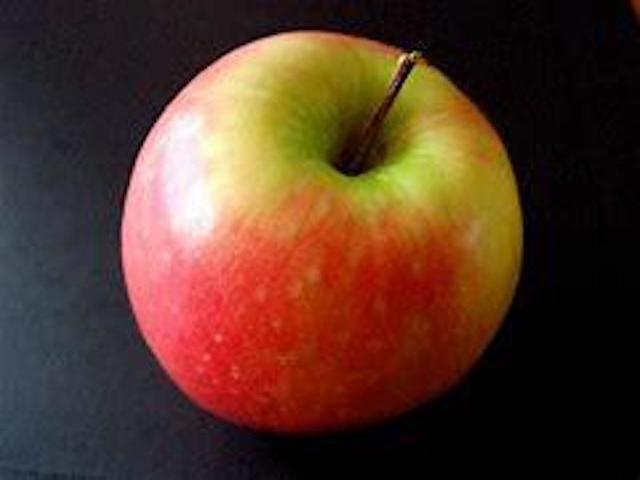apple: (107, 20, 535, 443)
